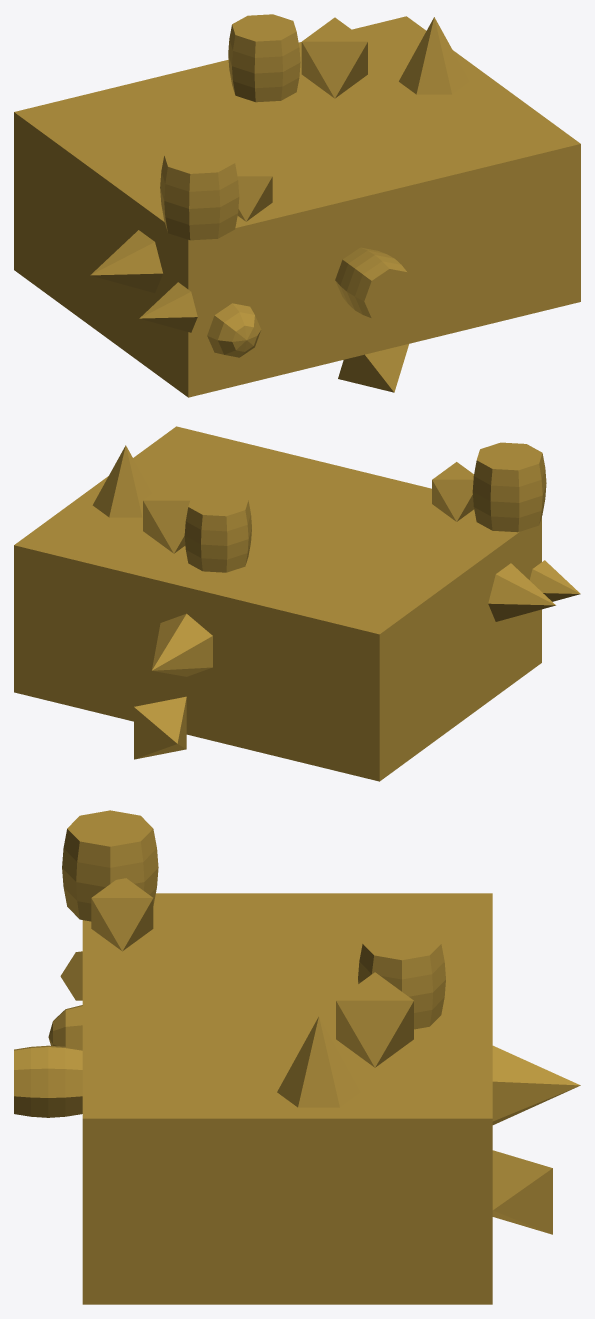
3 views of the same model, one above another, from view 1: azimuth 30°, elevation 25°; view 2: azimuth 150°, elevation 25°; view 3: azimuth 270°, elevation 25° (orthographic). The views are drawn at different scales.
Visible parts, largest first — view 1: object03_low; view 2: object03_low; view 3: object03_low.
Part boxes in pixels (x1,y1,x2,y2): object03_low: (14,14,580,397); object03_low: (14,426,580,781); object03_low: (14,810,580,1304).
Bounding box in the file's own units: 2.98 × 1.73 × 2.76.
